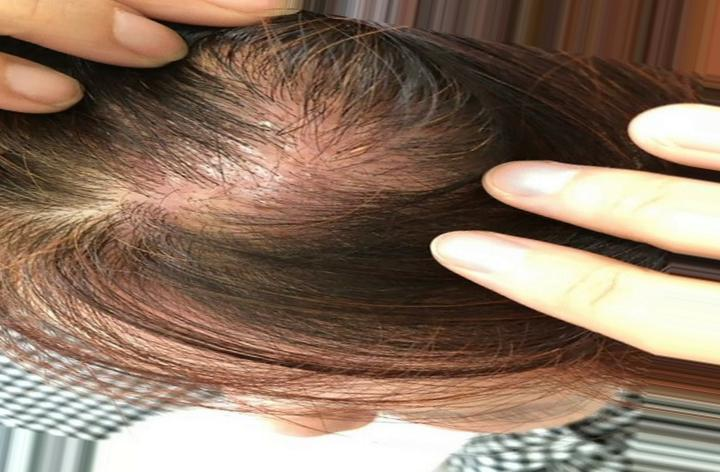Contact Dermatitis: (136, 83, 404, 266)
